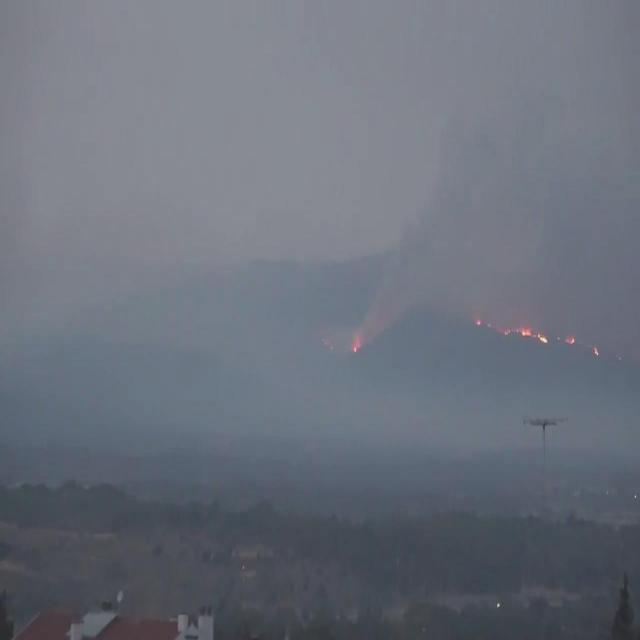Fire: (517, 326, 532, 336), (538, 332, 548, 344), (564, 334, 576, 344), (592, 346, 599, 356), (352, 345, 358, 355), (476, 316, 482, 326), (504, 327, 510, 336)
